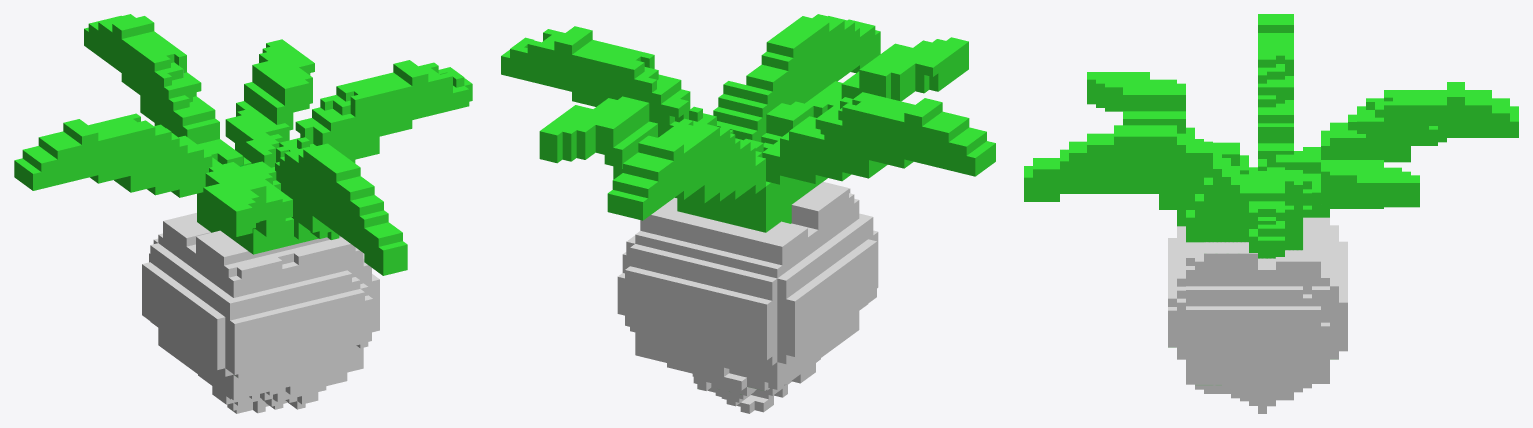
Rendered from sakurajimadaikon.glb.
3 views of the same model, side by side, from view 1: azimuth 30°, elevation 25°; view 2: azimuth 150°, elevation 25°; view 3: azimuth 270°, elevation 25° (orthographic). The views are drawn at different scales.
Visible parts, largest first — view 1: sakurajimadaikon; view 2: sakurajimadaikon; view 3: sakurajimadaikon.
Boxes of the visible parts, x1,y1,x2,y2 form: sakurajimadaikon: (14,14,472,413); sakurajimadaikon: (501,14,995,413); sakurajimadaikon: (1024,14,1518,413).
Bounding box in the file's own units: 1.08 × 0.74 × 1.1.
1 material, 1 textured.
